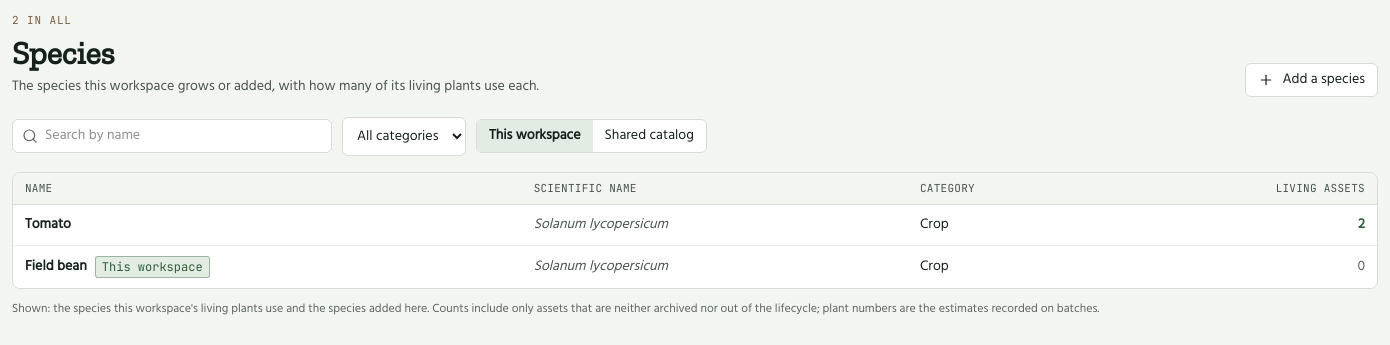
Test case: species and crops › Species shows this workspace's species, or the shared catalog on request, and marks its own entries
expect the text "Field bean" shows "This workspace": met, box [102,259,203,275]
Click the button "Shared catalog": x=649, y=136 [592,120,706,152]
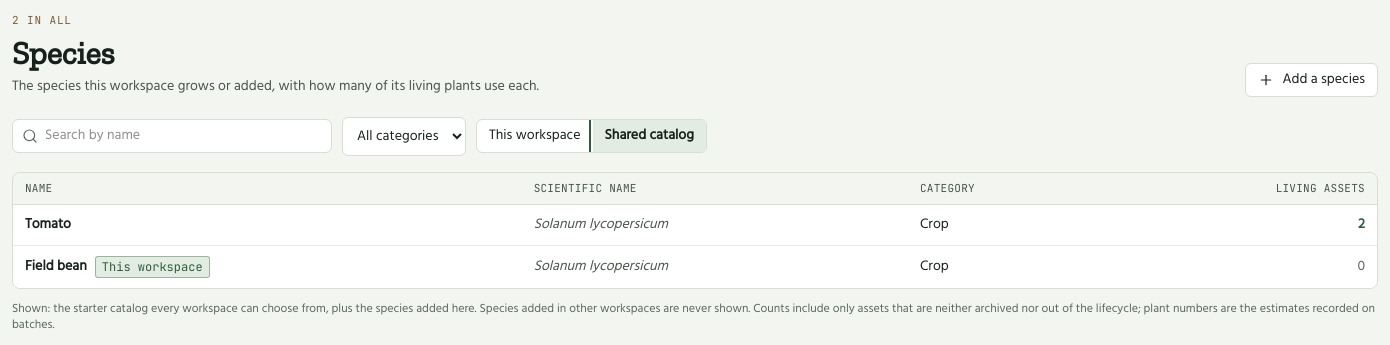
expect the text "Species added in other workspaces are never shown" is shown: met, box [12,299,750,319]
